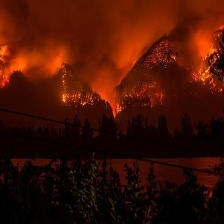fire: (194, 33, 224, 89), (115, 86, 175, 112), (54, 70, 92, 106)
smoke: (2, 2, 189, 61)
